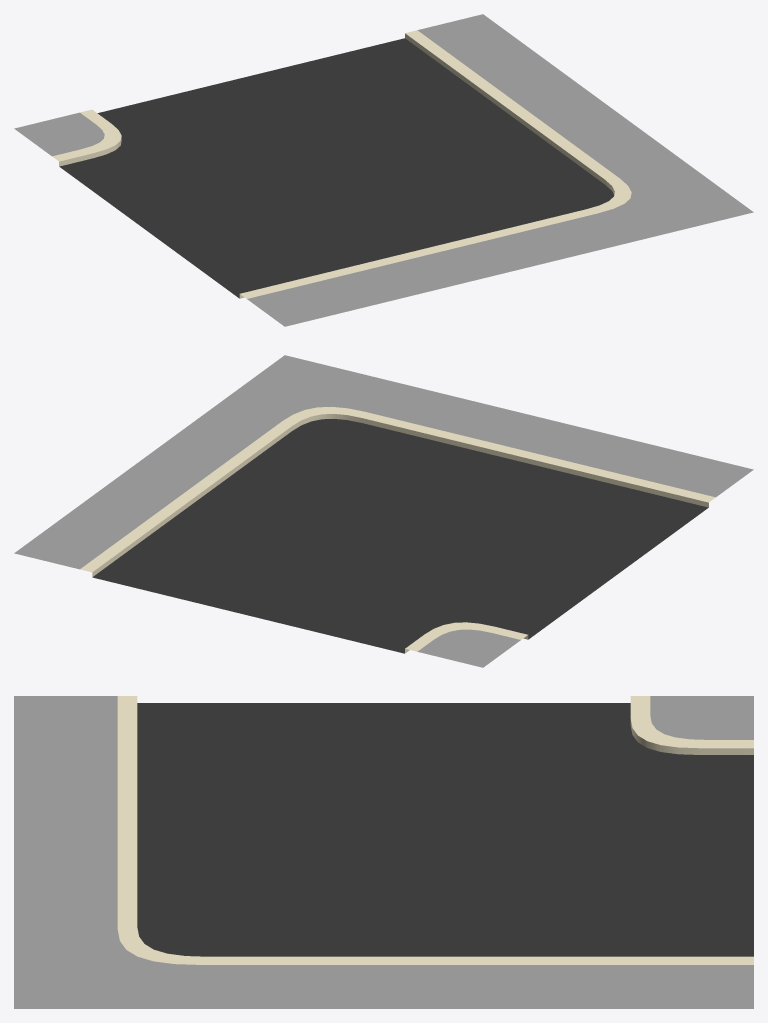
File: Strasse3.glb
3 views of the same model, one above another, from view 1: azimuth 30°, elevation 25°; view 2: azimuth 150°, elevation 25°; view 3: azimuth 270°, elevation 25° (orthographic). The views are drawn at different scales.
Visible parts, largest first — view 1: Strasse3; view 2: Strasse3; view 3: Strasse3.
Part boxes in pixels (x1,y1,x2,y2): Strasse3: [14, 14, 753, 326]; Strasse3: [14, 355, 753, 667]; Strasse3: [14, 696, 753, 1008].
Size of the model in its own units: 6 by 0.061 by 6.
1 material, 1 textured.
